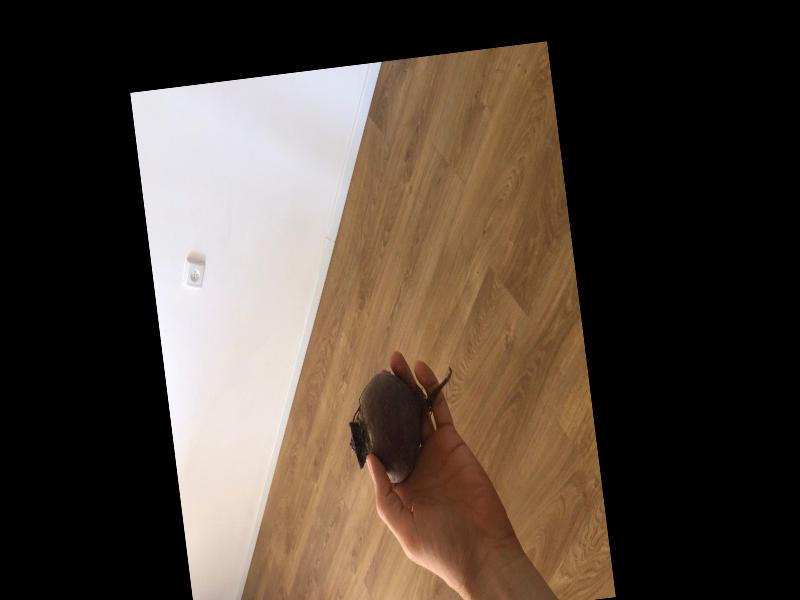Beet: (344, 361, 465, 487)
